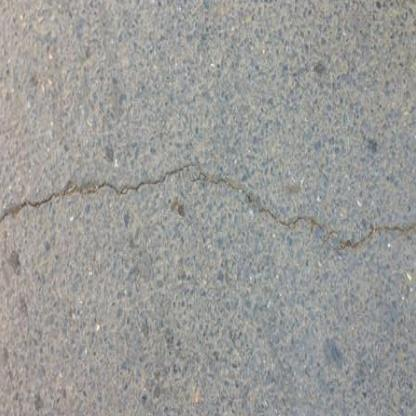Cracks: (0, 154, 416, 253)
